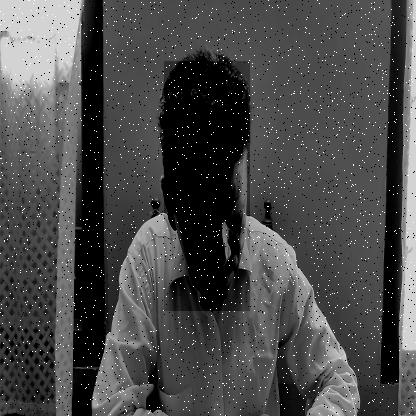Distracted: (164, 61, 250, 311)
